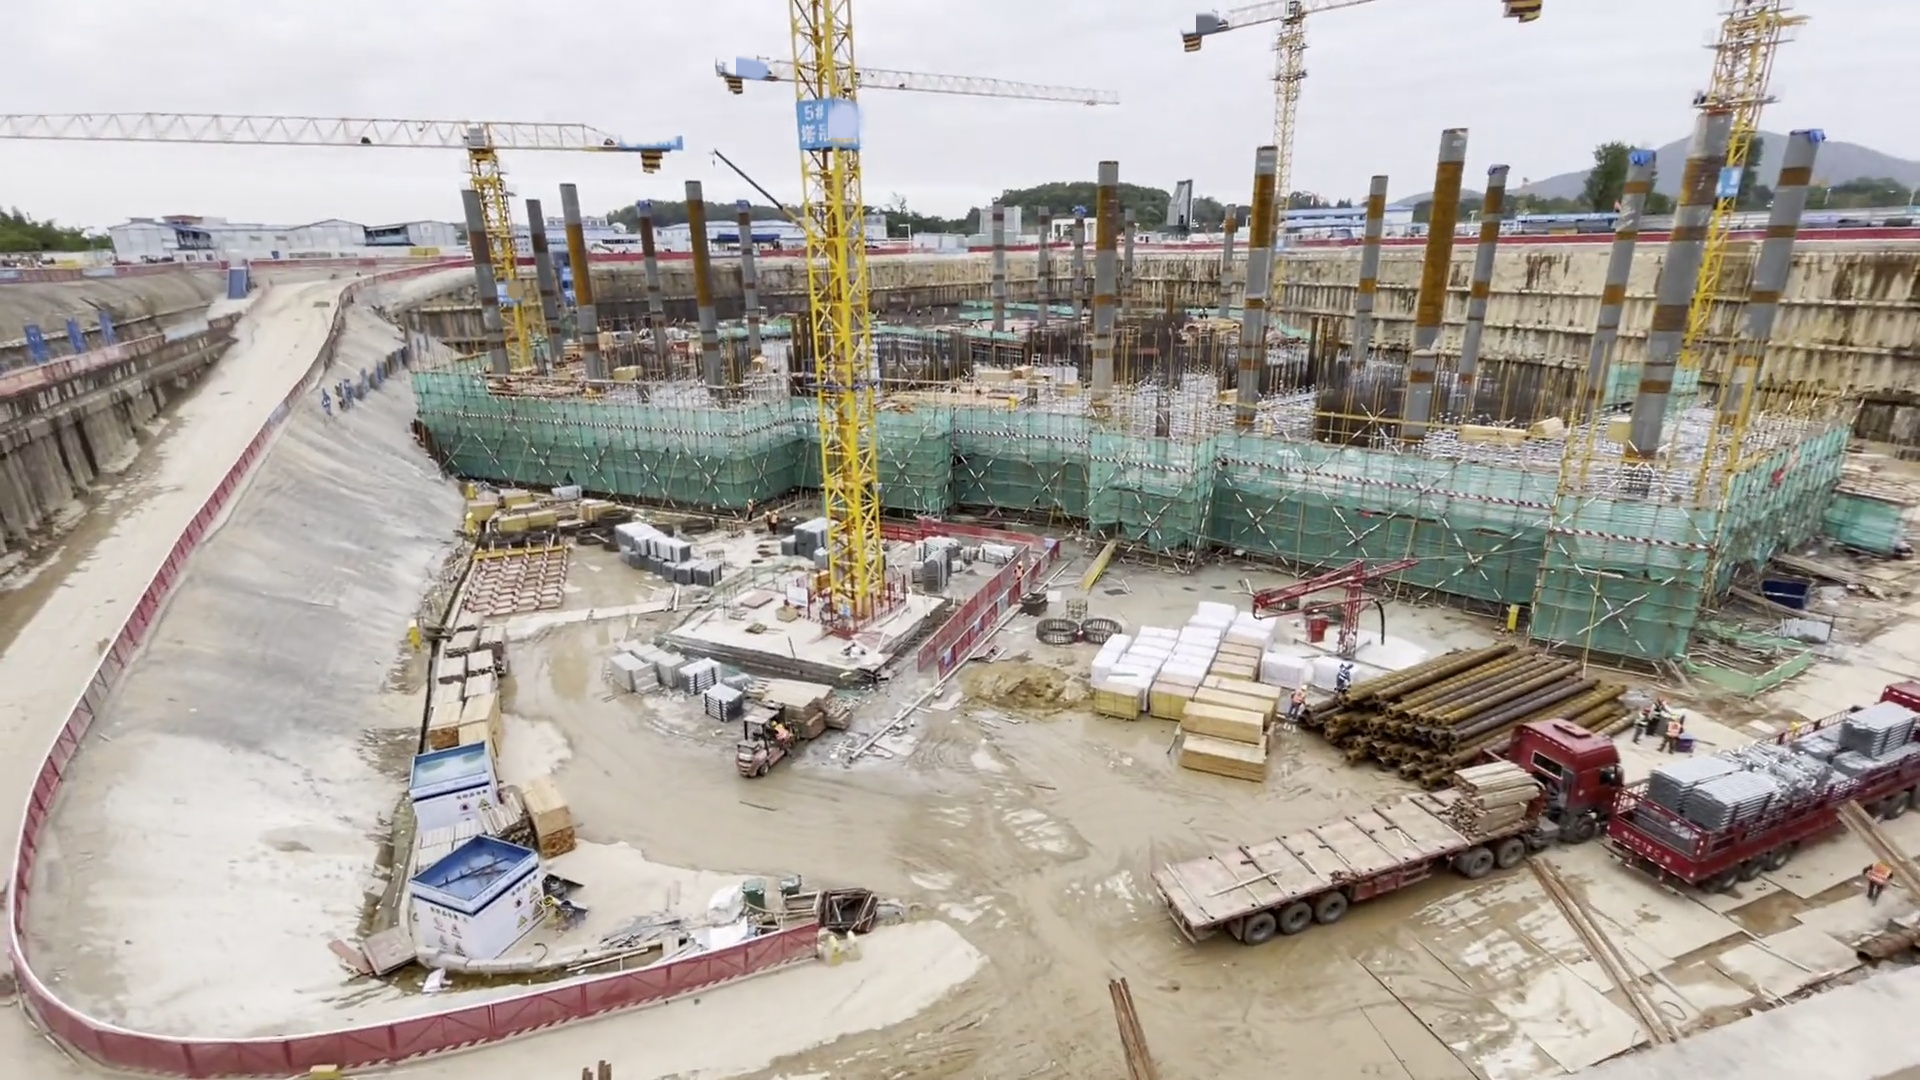board: (1151, 670, 1200, 720), (1095, 681, 1146, 726), (1214, 631, 1263, 678), (494, 505, 565, 534), (500, 488, 543, 511), (465, 496, 501, 524)
fence: (135, 939, 819, 1068)
helmet: (1016, 560, 1024, 567), (1300, 683, 1307, 691), (1644, 706, 1652, 712), (770, 720, 777, 726)
person: (1864, 850, 1892, 908), (764, 722, 800, 759), (1334, 656, 1361, 701), (1286, 681, 1308, 726), (1648, 691, 1666, 743), (1666, 713, 1681, 754), (1633, 705, 1648, 745), (766, 506, 783, 535), (1008, 558, 1026, 580), (743, 493, 755, 524)
scaffold: (1652, 752, 1778, 823), (1843, 697, 1920, 763), (697, 683, 747, 721), (678, 658, 720, 694)
vest: (1870, 863, 1892, 885), (771, 728, 791, 741), (1667, 721, 1680, 738), (1634, 712, 1647, 729), (1334, 669, 1349, 683), (1292, 691, 1304, 706), (1015, 568, 1024, 577), (770, 515, 778, 524)
wood: (1193, 676, 1281, 781), (1445, 763, 1536, 832), (525, 777, 576, 855), (775, 680, 855, 730)
